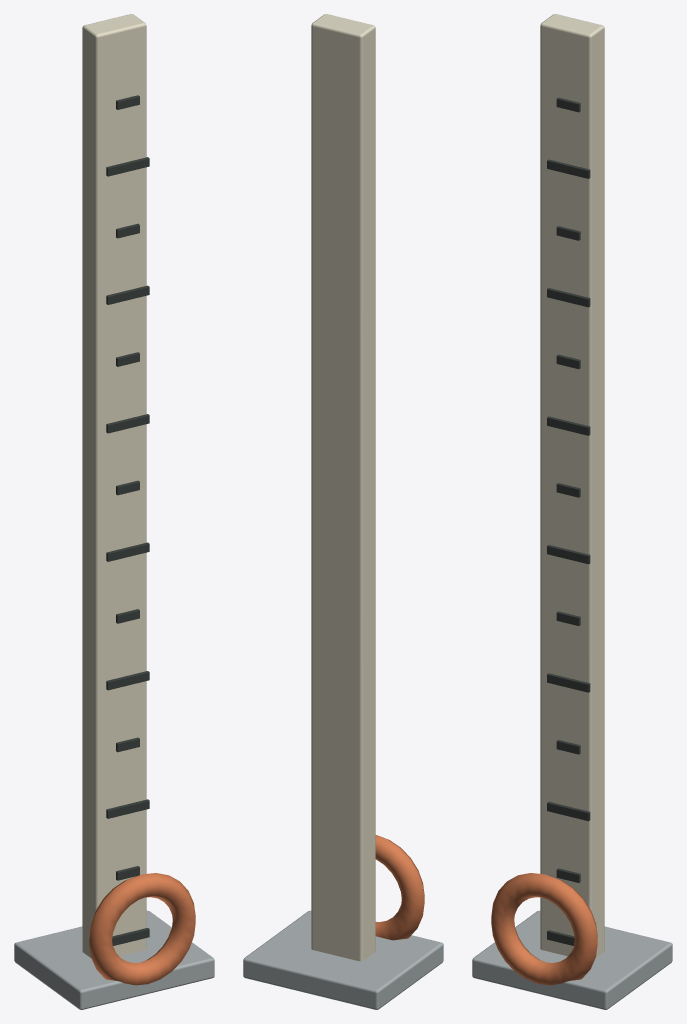
Rendered from flooded-and-coastal-survival-tidal-level-gauge-b85a8876__20054.glb.
3 renders of one model, left to right at view 1: azimuth 30°, elevation 25°; view 2: azimuth 150°, elevation 25°; view 3: azimuth 330°, elevation 25°, orthographic.
Visible parts, largest first — view 1: tidal-level-gauge; view 2: tidal-level-gauge; view 3: tidal-level-gauge.
Part boxes in pixels (<box>): tidal-level-gauge: <box>14,14,214,1009</box>; tidal-level-gauge: <box>243,14,443,1009</box>; tidal-level-gauge: <box>472,14,672,1009</box>.
Size of the model in its own units: 0.42 by 2.8 by 0.3603.
